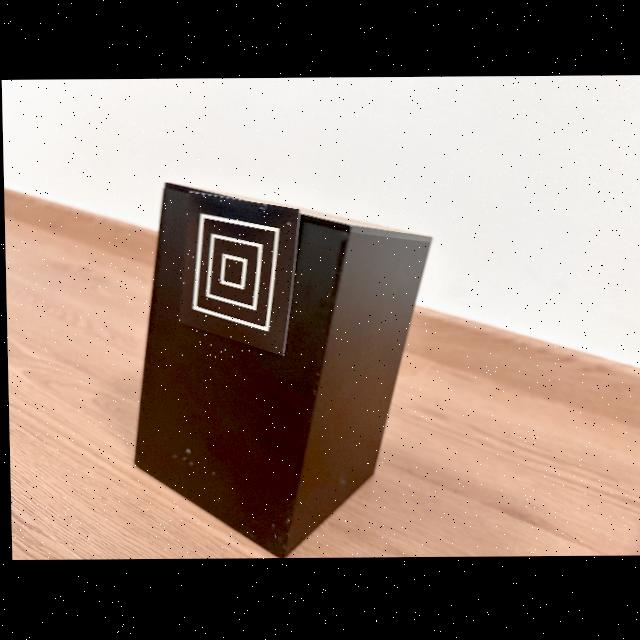BULLSEYE: (175, 191, 300, 357)
